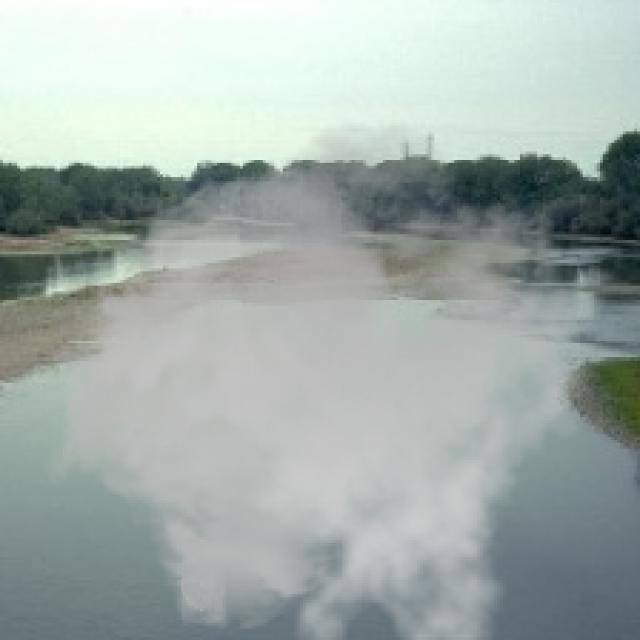smoke: (40, 120, 603, 637)
